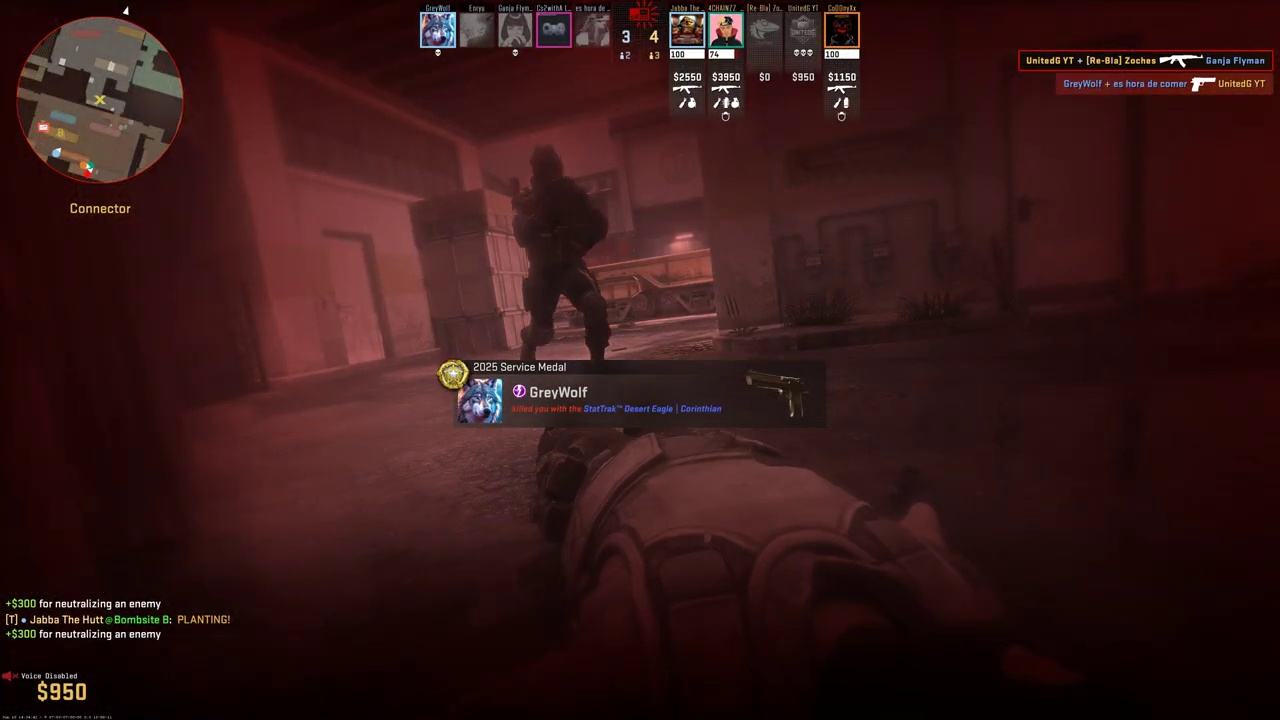CT: (512, 144, 611, 361)
